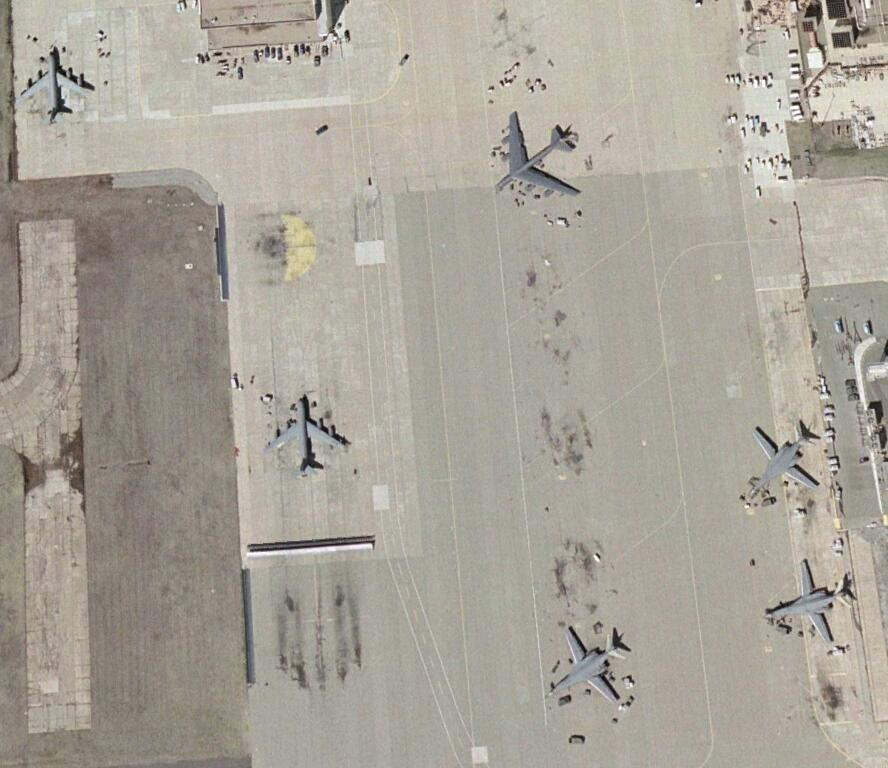A10: (773, 561, 857, 647), (551, 625, 633, 706), (749, 422, 824, 497)
A14: (263, 398, 348, 475), (13, 52, 95, 120)
A8: (493, 110, 585, 200)
